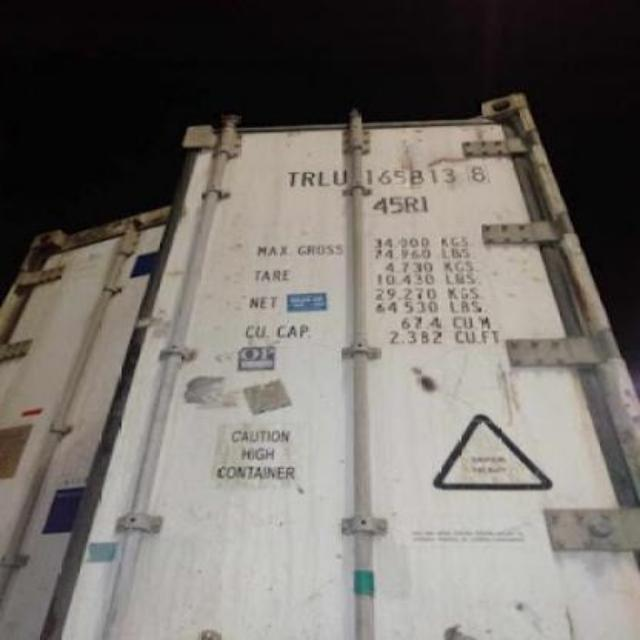1: (426, 158, 439, 188), (364, 162, 376, 188)
3: (441, 160, 462, 188)
5: (392, 160, 406, 190)
6: (376, 162, 392, 186)
8: (468, 160, 492, 186), (406, 159, 426, 189)
L: (316, 163, 329, 190)
R: (300, 168, 316, 188)
T: (286, 167, 300, 196)
U: (332, 165, 350, 189)
